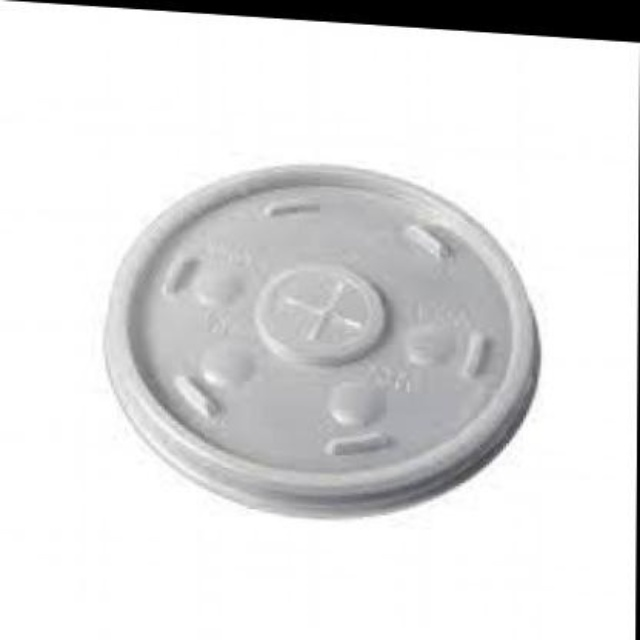trash: (105, 165, 537, 514)
